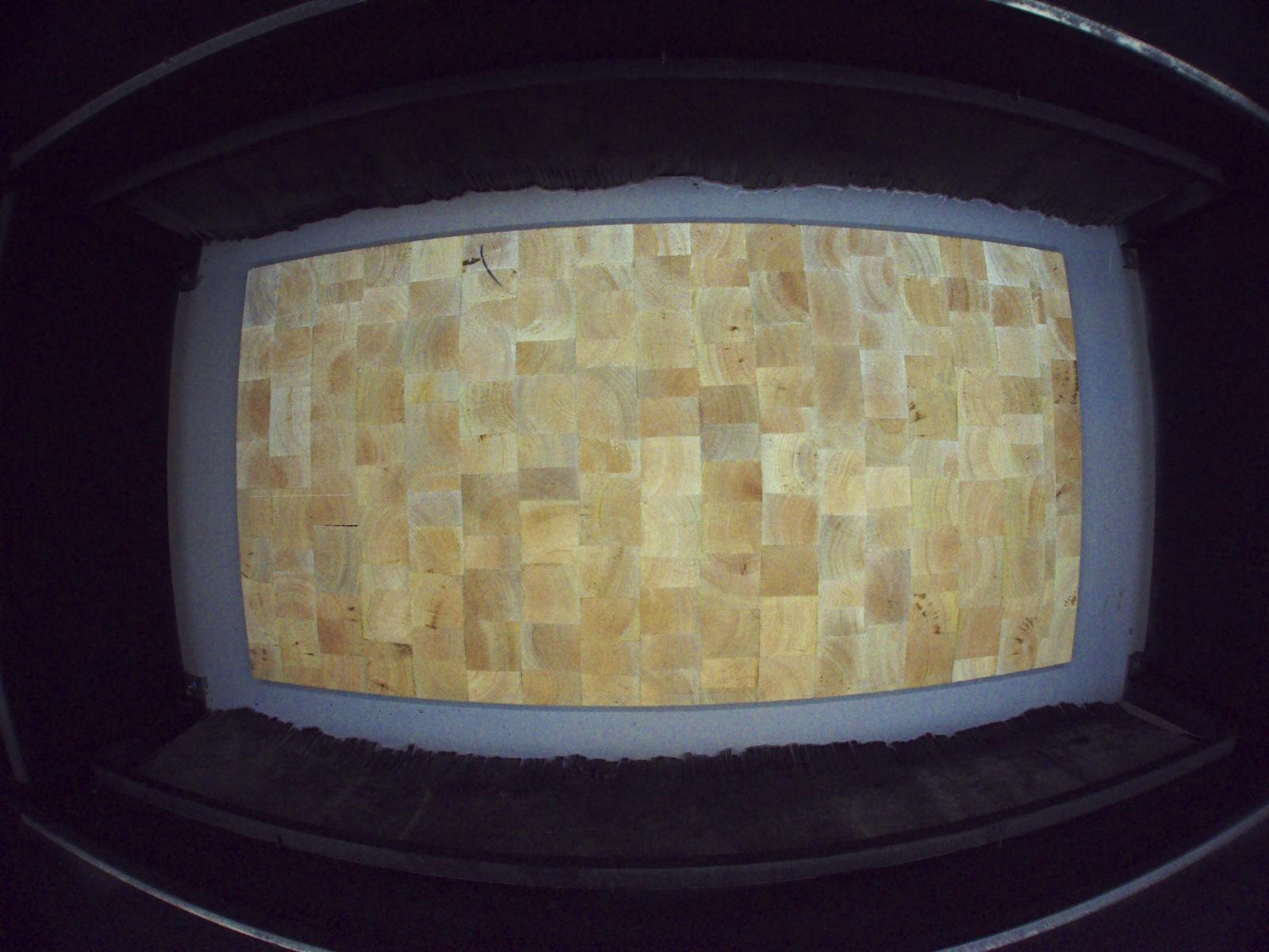nudillo: (462, 256, 482, 267)
